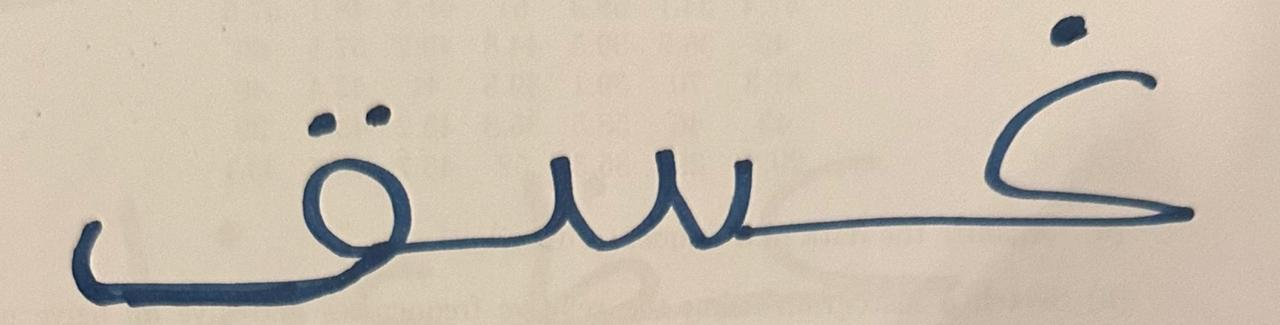ghain: (818, 3, 1244, 305)
reh: (29, 17, 462, 325)
sheen: (468, 7, 810, 305)
